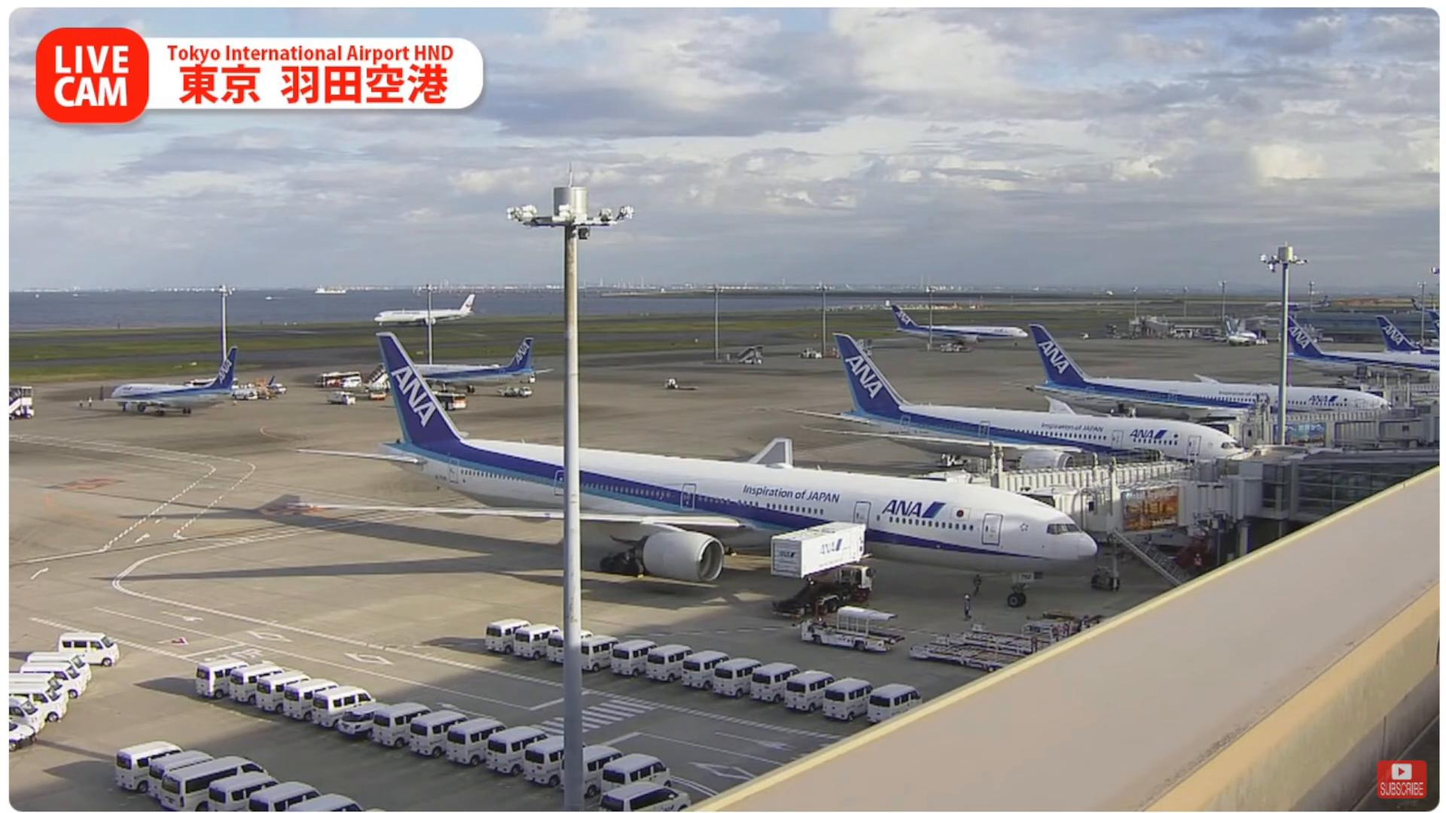Aerobridge: (937, 438, 1217, 490), (1025, 480, 1229, 535)
Airplane: (280, 333, 1099, 615)
Catering: (768, 519, 874, 618)
JCPL: (908, 637, 1025, 670), (960, 626, 1064, 652)
Skyloader: (803, 606, 908, 654)
Window: (1286, 455, 1435, 523)
